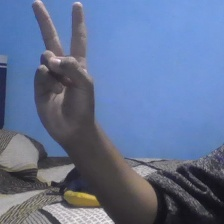V: (24, 1, 101, 142)
